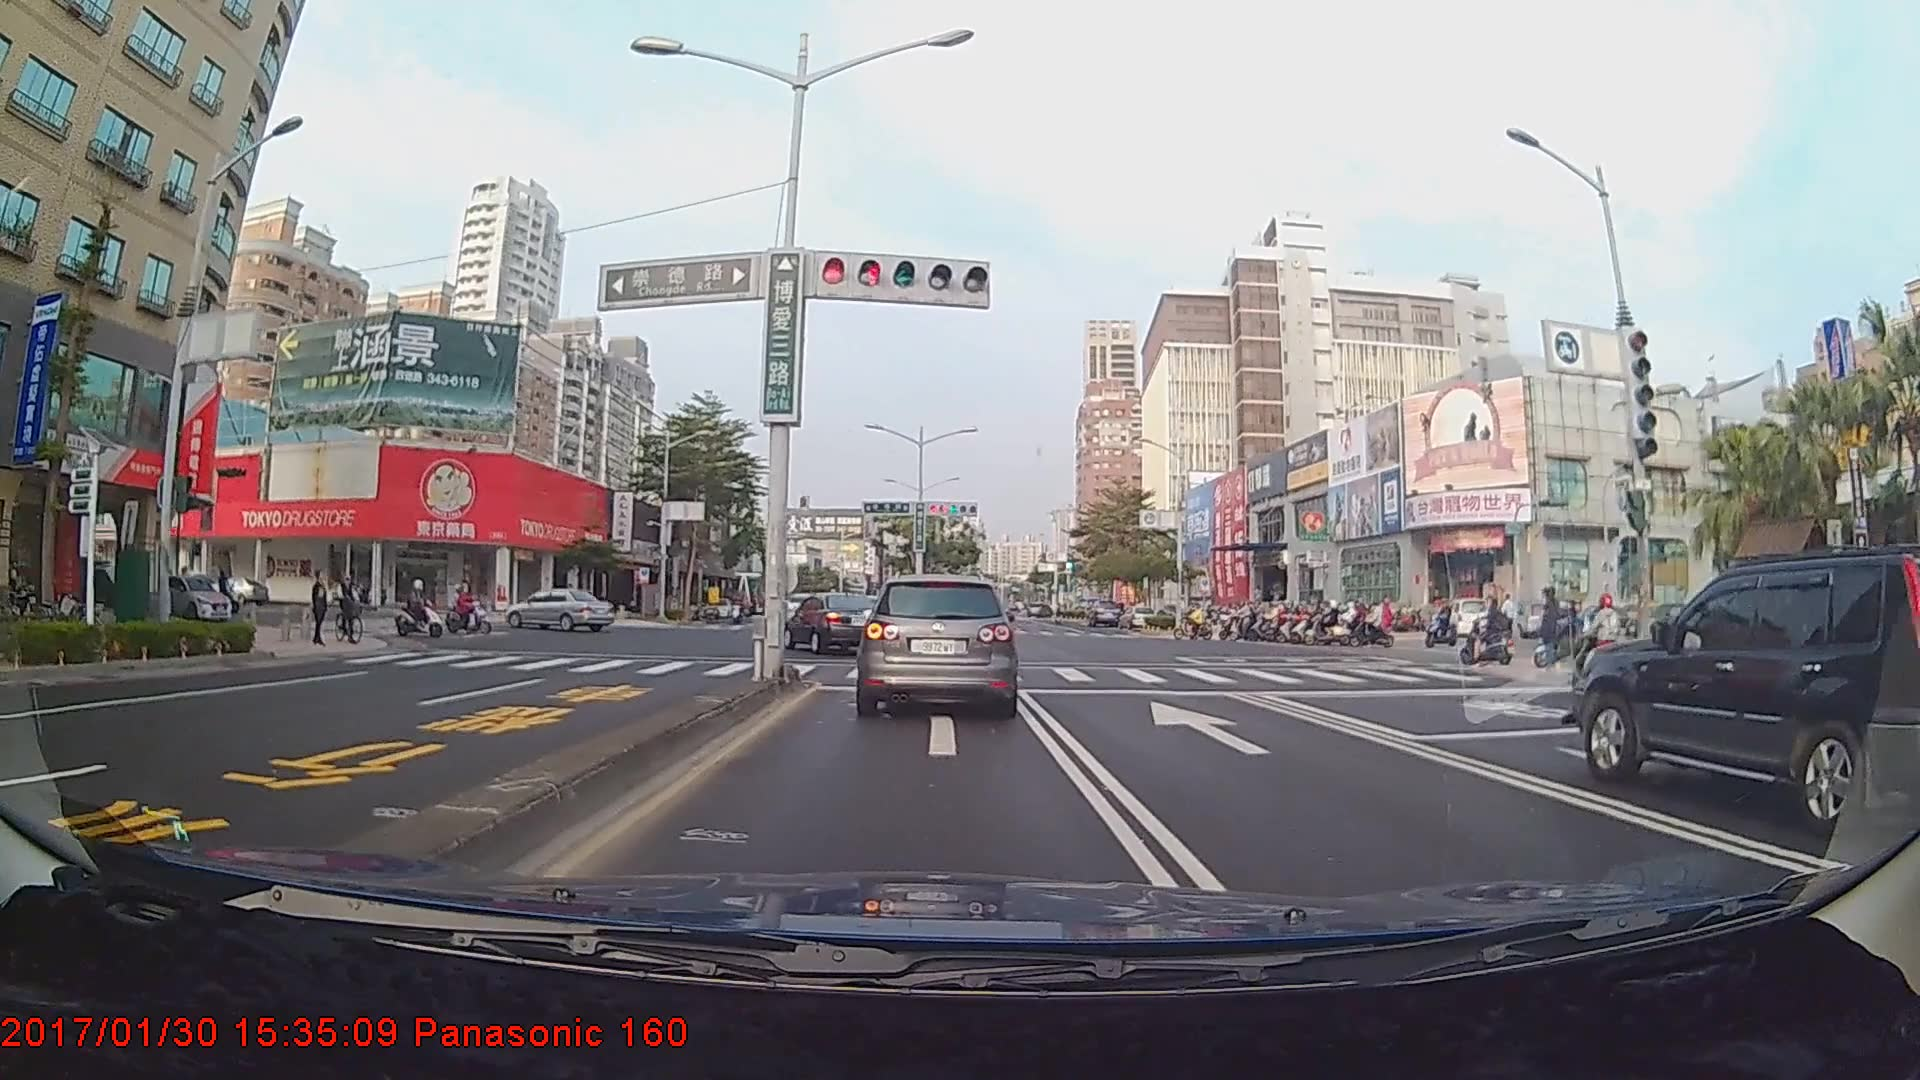pedestrian: (1536, 584, 1566, 678), (310, 565, 331, 650)
rider: (1458, 600, 1522, 666), (392, 578, 445, 643), (434, 577, 490, 635), (331, 566, 369, 644), (1356, 592, 1397, 650), (1313, 601, 1359, 647), (1176, 599, 1217, 639)
vehicle: (1568, 554, 1920, 838), (854, 569, 1020, 722), (784, 588, 885, 655), (504, 584, 614, 631), (1087, 599, 1122, 629)
